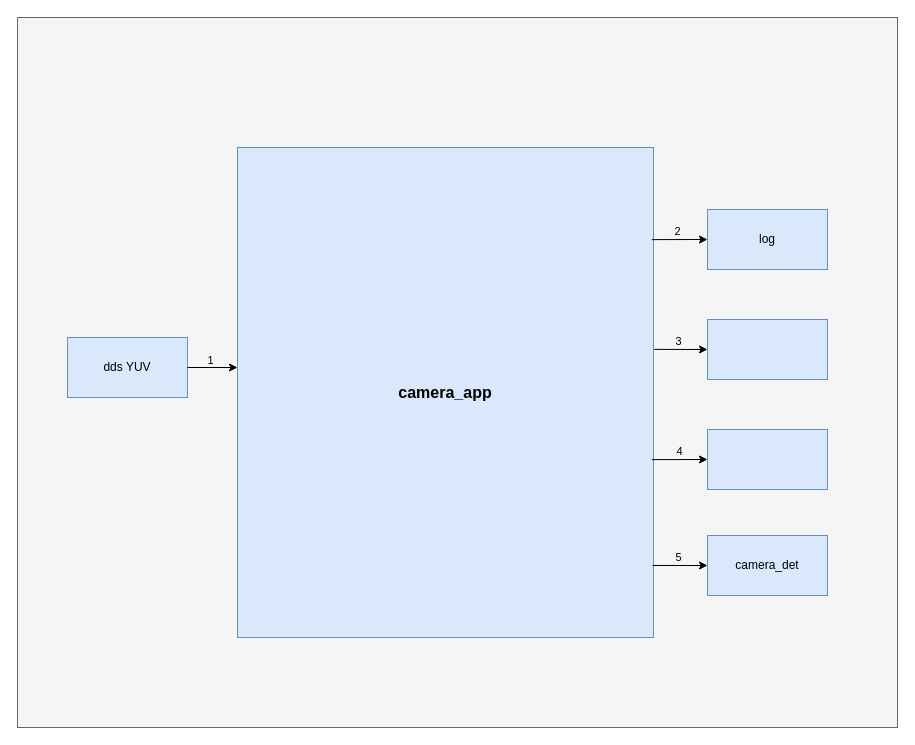
Some shapes in this 915 by 745 pixel diagram are drawn without their labels. The box of each missing label's shape, as (x1, y1, x2, y2) in pixels:
Fsm: (706, 318, 828, 380)
visualize: (706, 428, 828, 490)
